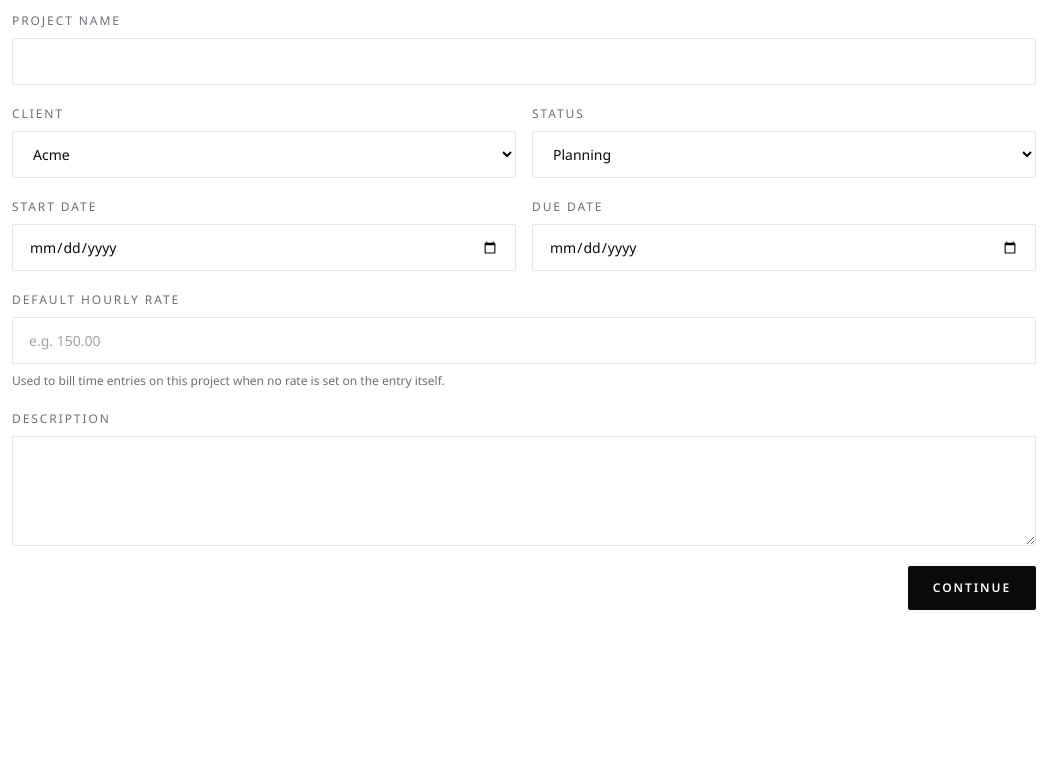
Test: ProjectForm › requires a project name
Click the button "Continue": point(972, 588) [908,566,1036,610]
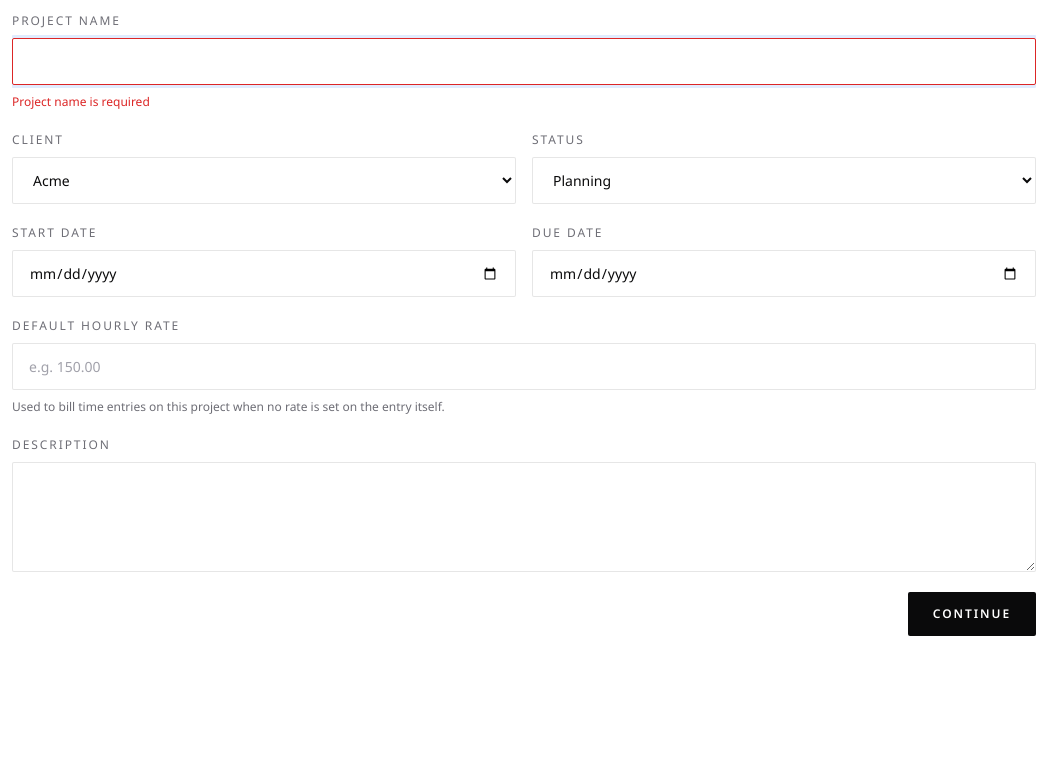
Result: the text "Project name is required" is shown at [12,93,150,110]
